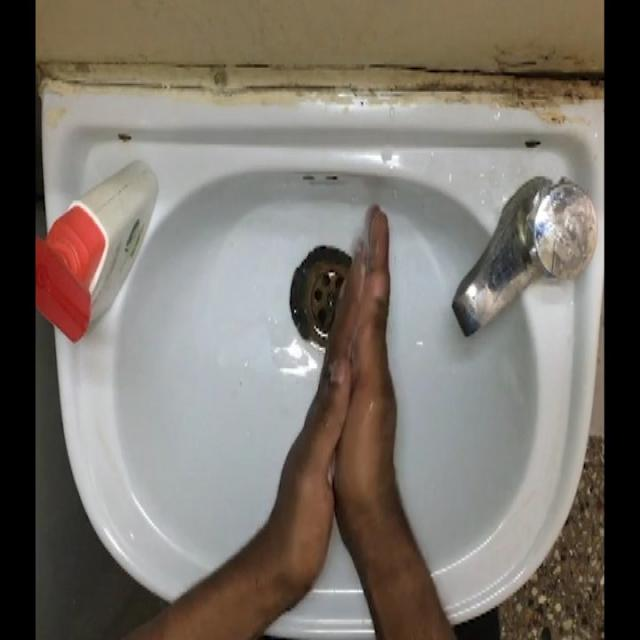step_1: (278, 190, 416, 537)
